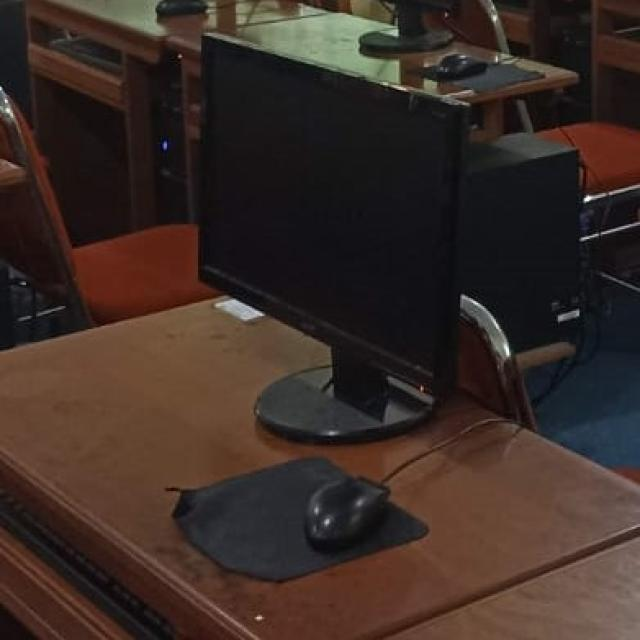offscreen: (202, 36, 469, 396)
